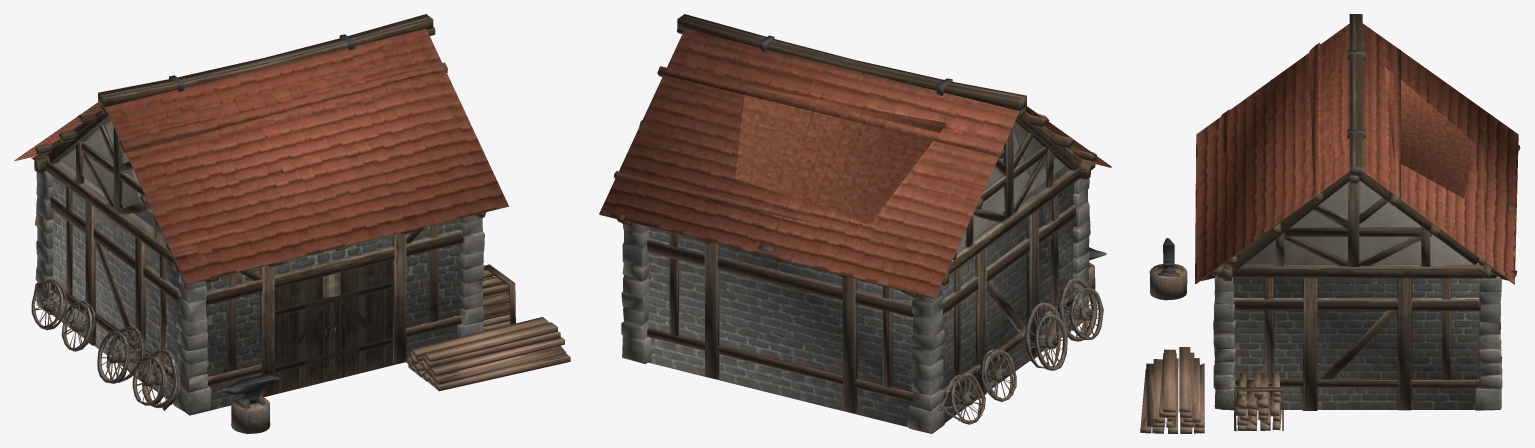
Rendered from workshop.glb.
The picture shows the model from 3 angles, left to right: view 1: azimuth 30°, elevation 25°; view 2: azimuth 150°, elevation 25°; view 3: azimuth 270°, elevation 25°; orthographic projection. The views are drawn at different scales.
Bounding box in the file's own units: 0.957 × 0.6664 × 0.8916.
1 material, 1 textured.
